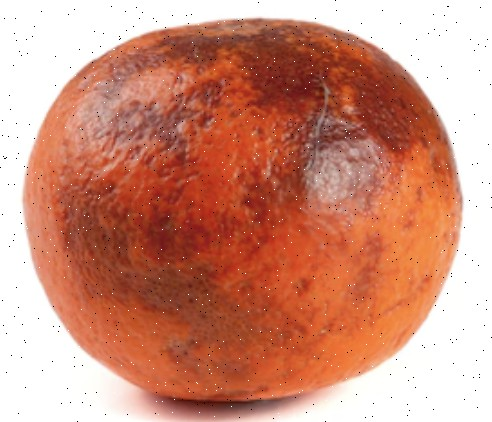rotten_orange: (23, 18, 462, 400)
